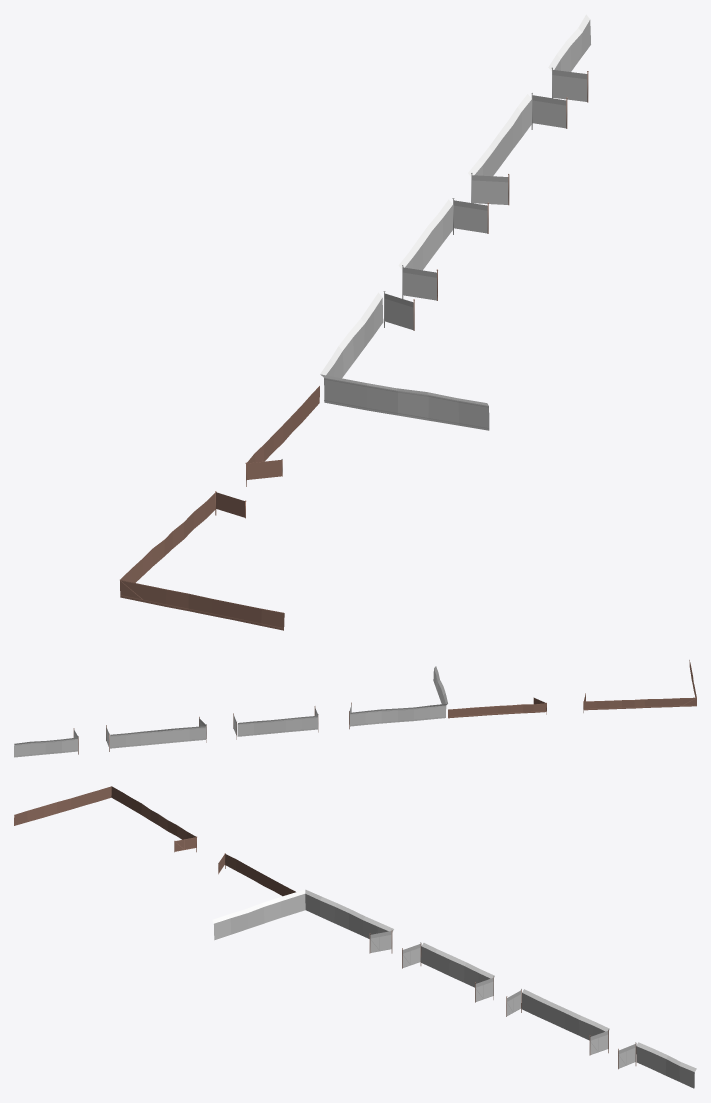
File: storage2_fencing.dae
The picture shows the model from 3 angles, top to bottom: view 1: azimuth 30°, elevation 25°; view 2: azimuth 150°, elevation 25°; view 3: azimuth 270°, elevation 25°; orthographic projection. The views are drawn at different scales.
Parts seen in each view (by area): view 1: pole_fence1_a050.954; view 2: pole_fence1_a050.954; view 3: pole_fence1_a050.954.
Boxes of the visible parts, x1=… form: pole_fence1_a050.954: x1=120, y1=14, x2=590, y2=630; pole_fence1_a050.954: x1=14, y1=660, x2=696, y2=757; pole_fence1_a050.954: x1=14, y1=786, x2=696, y2=1088.
Bounding box in the file's own units: 97.12 × 96.01 × 3.84.
